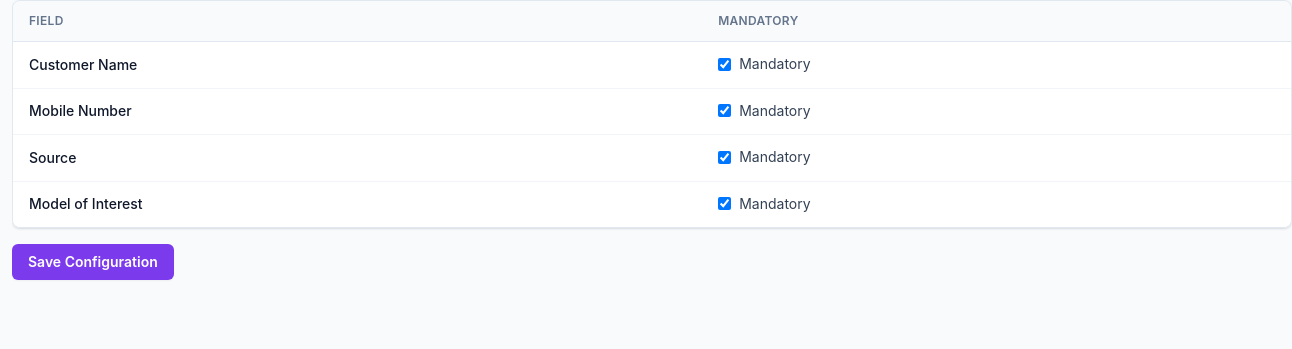
Test: FieldConfigForm › AC5 (client surface): a 403 response is shown as an explicit permission error
Check: the checkbox labelled "Mandatory" in the row of "Source" is shown, box left=718, top=150, right=731, bottom=164
Click the button "Save Configuration": (93, 262) left=12, top=244, right=174, bottom=280
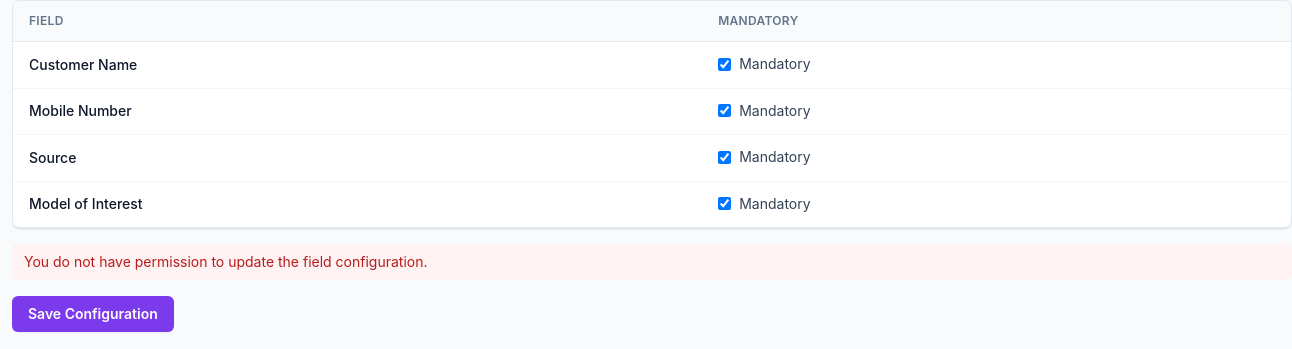
Check: the text "You do not have permission to update the field configuration." is shown, box left=12, top=244, right=1291, bottom=280
